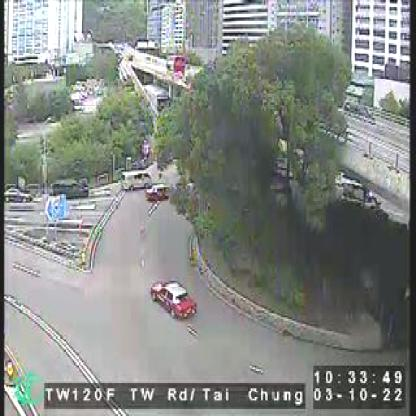Car: (151, 281, 196, 324), (120, 170, 150, 192), (53, 178, 86, 196), (0, 187, 31, 203), (146, 184, 172, 201)
